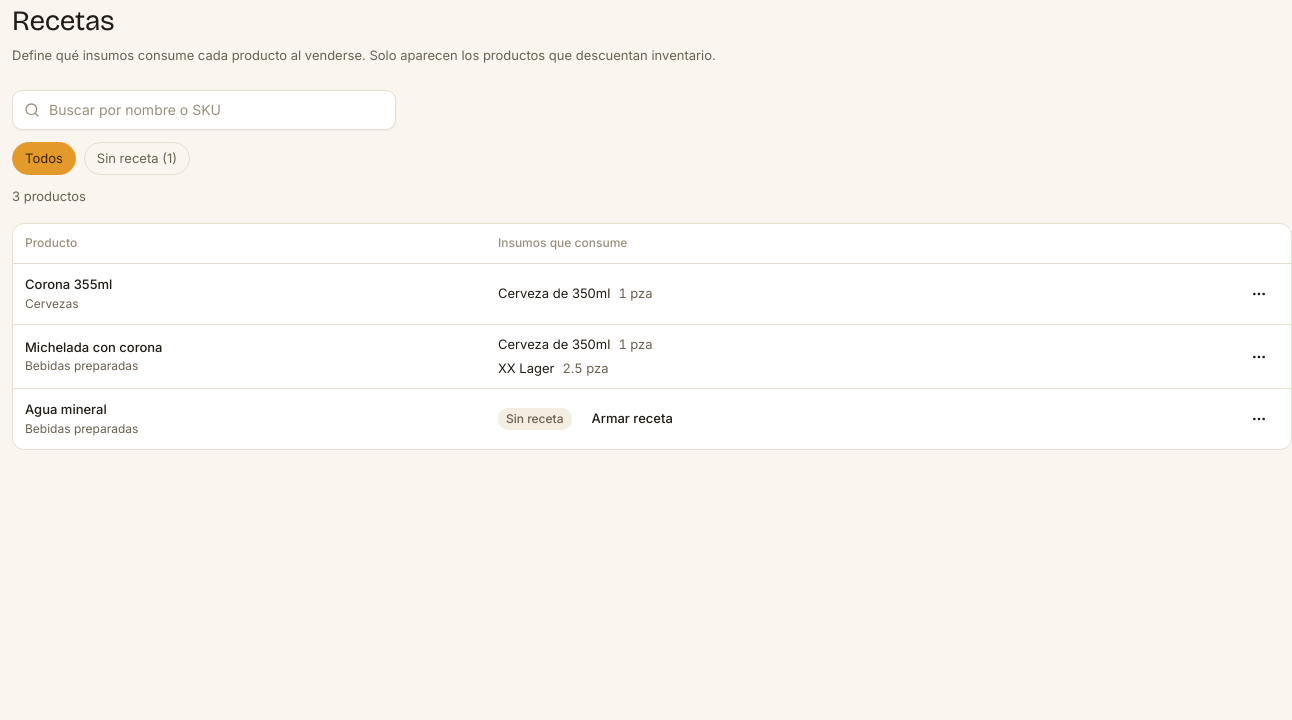
Test case: RecetasPage · quitar la receta › al producto sin receta no le ofrece quitarla
The width and height of the screenshot is (1292, 720).
Click the button named "acciones de agua mineral". click: (1259, 419)
box: [1239,399,1279,439]
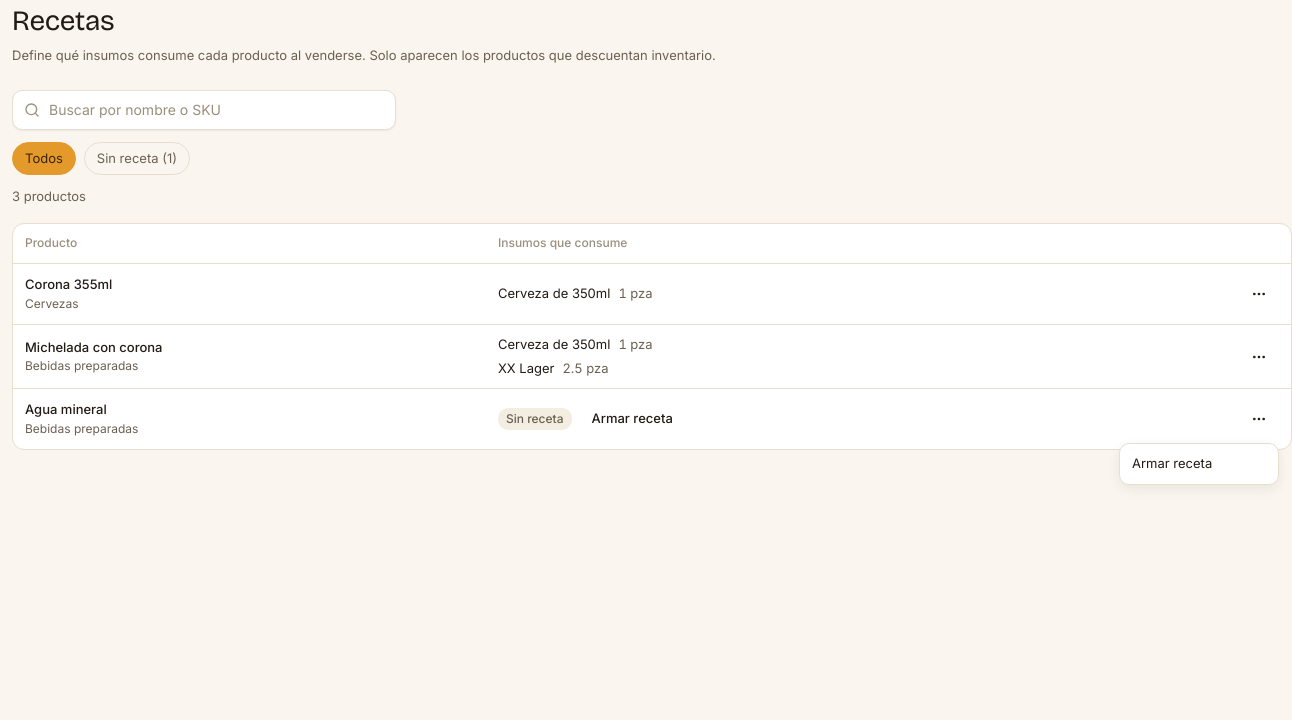
Expected: the menu item "Armar receta" is shown, [1132,455,1212,471]
